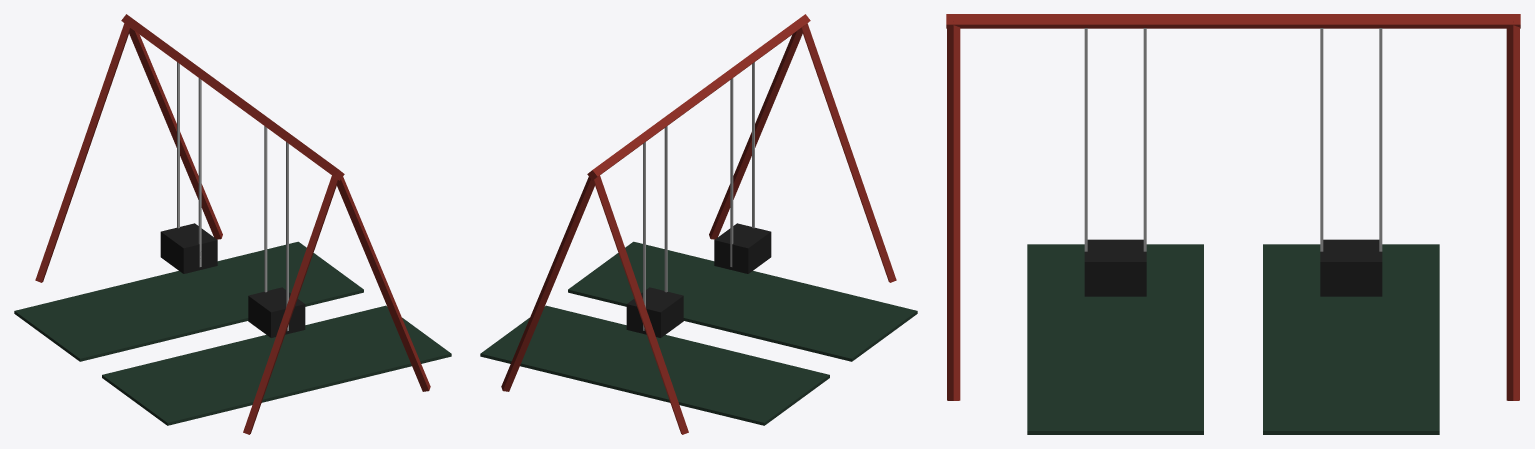
The model's file is SM_Prop_play_swings_1_LOD1.glb.
3 renders of one model, left to right at view 1: azimuth 30°, elevation 25°; view 2: azimuth 150°, elevation 25°; view 3: azimuth 270°, elevation 25°, orthographic. The views are drawn at different scales.
Parts seen in each view (by area): view 1: SM_Prop_play_swings_1_LOD1; view 2: SM_Prop_play_swings_1_LOD1; view 3: SM_Prop_play_swings_1_LOD1.
Part boxes in pixels (box(x1,y1,x2,y2)): SM_Prop_play_swings_1_LOD1: box(14, 14, 451, 434); SM_Prop_play_swings_1_LOD1: box(480, 14, 917, 434); SM_Prop_play_swings_1_LOD1: box(946, 14, 1520, 434).
Bounding box in the file's own units: 3 × 2.47 × 3.9.
